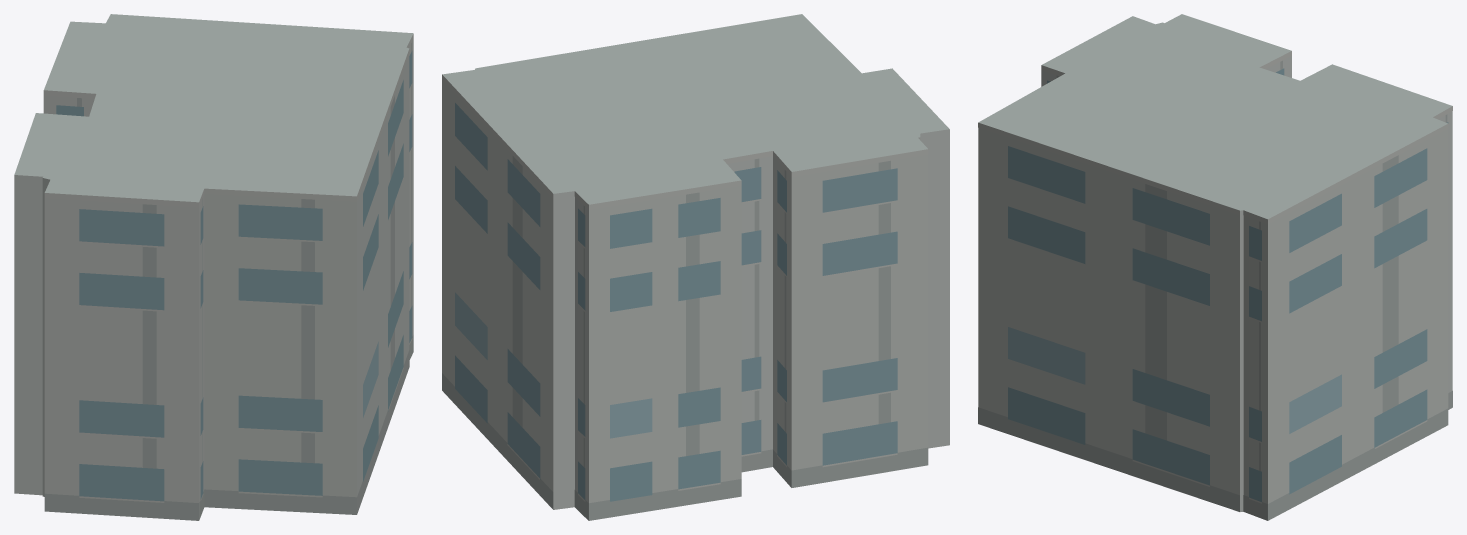
Rendered from survey-upis-32919052.glb.
3 views of the same model, side by side, from view 1: azimuth 30°, elevation 25°; view 2: azimuth 150°, elevation 25°; view 3: azimuth 270°, elevation 25° (orthographic). The views are drawn at different scales.
Parts seen in each view (by area): view 1: survey-upis-32919052.tmp; view 2: survey-upis-32919052.tmp; view 3: survey-upis-32919052.tmp.
Part boxes in pixels (x1,y1,x2,y2): survey-upis-32919052.tmp: (14, 14, 413, 520); survey-upis-32919052.tmp: (442, 14, 949, 520); survey-upis-32919052.tmp: (978, 14, 1452, 520).
Bounding box in the file's own units: 21.04 × 14.4 × 20.55.
